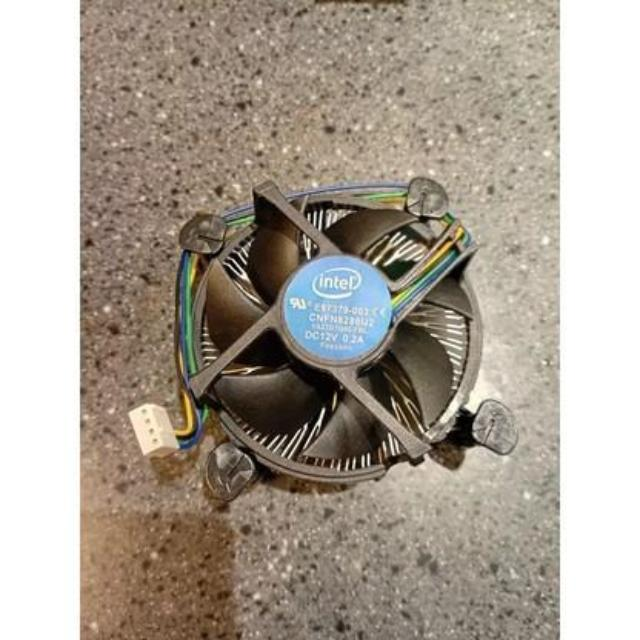CPU_Fan: (188, 174, 500, 482)
